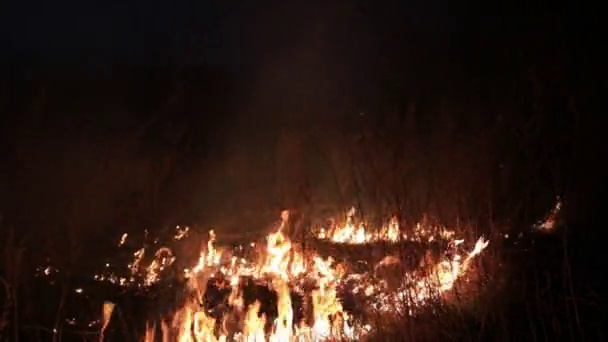fire: (149, 211, 486, 342), (144, 261, 158, 284), (99, 302, 113, 324)
